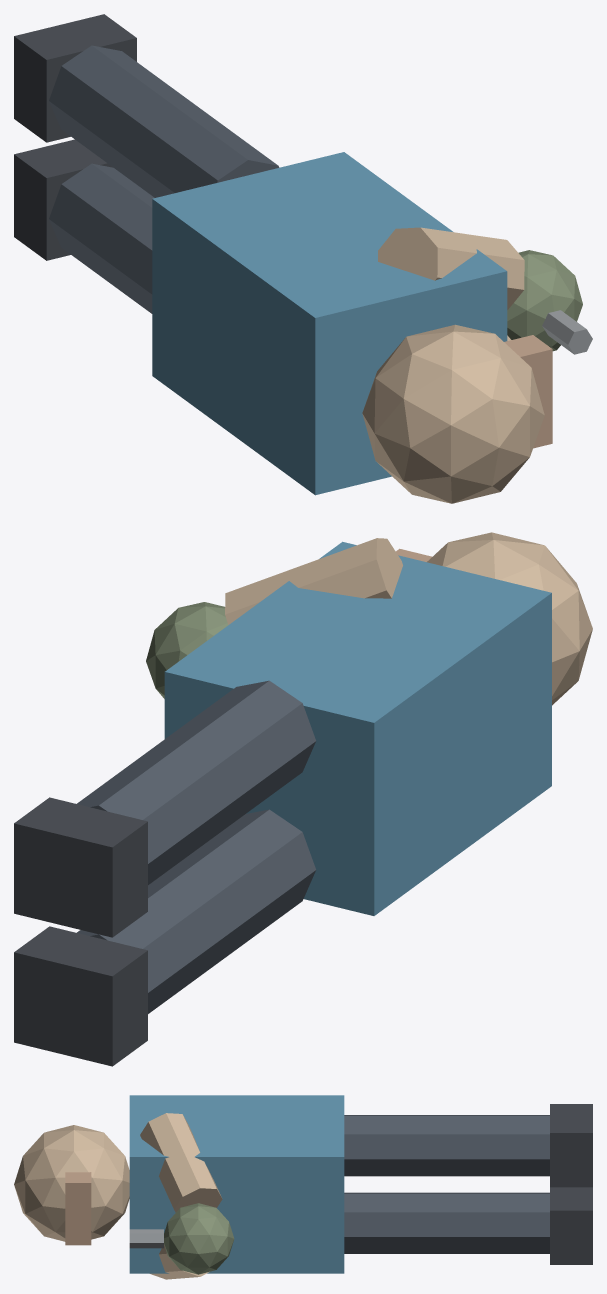
Rendered from player-hold.glb.
3 renders of one model, top to bottom at view 1: azimuth 30°, elevation 25°; view 2: azimuth 150°, elevation 25°; view 3: azimuth 270°, elevation 25°, orthographic. The views are drawn at different scales.
Parts seen in each view (by area): view 1: body_torso, look_head, body_right_leg, body_left_leg, body_right_boot, body_left_boot, look_right_arm, look_grenade, look_face, look_pin; view 2: body_torso, body_right_leg, body_left_leg, body_left_boot, body_right_boot, look_head, look_right_arm, look_grenade; view 3: body_torso, body_left_leg, body_right_leg, look_head, look_right_arm, look_grenade, body_right_boot, body_left_boot, look_face, look_pin, look_left_arm.
Part boxes in pixels (x1,y1,x2,y2): body_torso: (152, 152, 507, 495); look_head: (362, 324, 544, 503); body_right_leg: (49, 45, 279, 197); body_left_leg: (49, 163, 154, 313); body_right_boot: (14, 14, 136, 142); body_left_boot: (14, 139, 112, 260); look_right_arm: (378, 227, 524, 309); look_grenade: (507, 250, 582, 351); look_face: (504, 335, 552, 448); look_pin: (542, 310, 592, 354); body_torso: (164, 541, 551, 915); body_right_leg: (77, 680, 315, 884); body_left_leg: (77, 809, 315, 1013); body_left_boot: (14, 926, 147, 1066); body_right_boot: (14, 797, 147, 937); look_head: (427, 532, 592, 705); look_right_arm: (225, 538, 402, 624); look_grenade: (146, 602, 228, 698); body_torso: (129, 1095, 344, 1273); body_left_leg: (344, 1192, 549, 1253); body_right_leg: (344, 1115, 549, 1176); look_head: (14, 1125, 129, 1241); look_right_arm: (140, 1113, 222, 1212); look_grenade: (164, 1203, 234, 1274); body_right_boot: (550, 1104, 592, 1187); body_left_boot: (550, 1187, 592, 1264); look_face: (65, 1172, 91, 1245); look_pin: (129, 1229, 163, 1248); look_left_arm: (150, 1245, 209, 1279).
Bounding box in the file's own units: 27.7 × 21.42 × 67.5.
